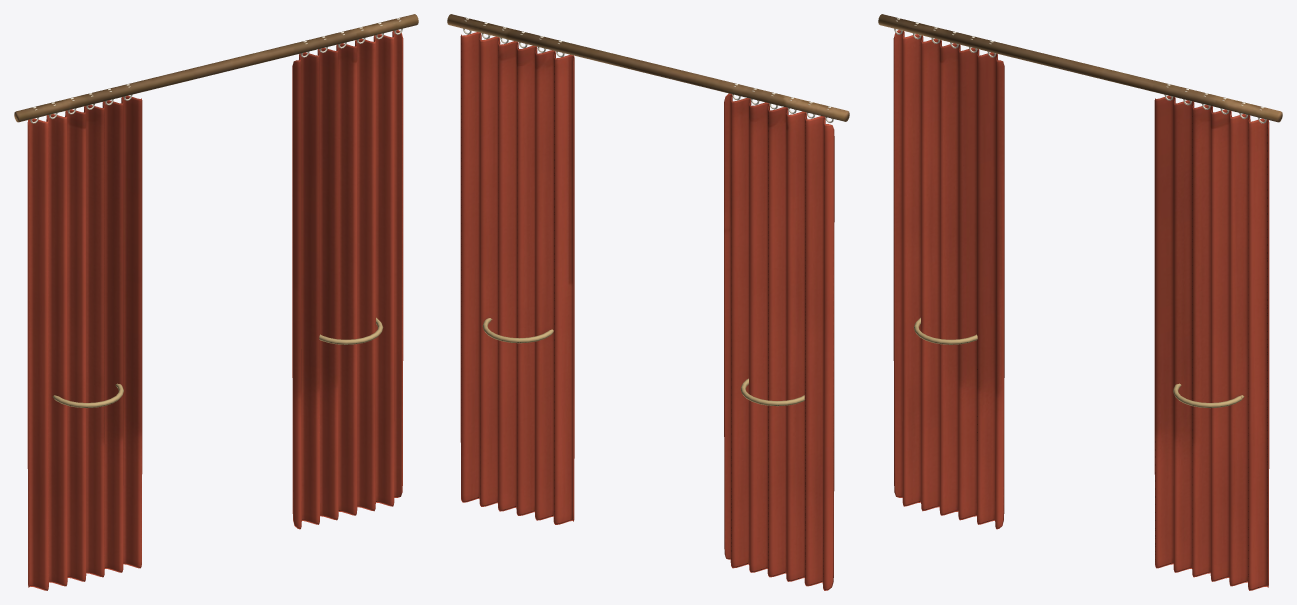
The model's file is curtain_red.glb.
3 views of the same model, side by side, from view 1: azimuth 30°, elevation 25°; view 2: azimuth 150°, elevation 25°; view 3: azimuth 330°, elevation 25° (orthographic).
Visible parts, largest first — view 1: curtain_red_panel0, curtain_red_panel2, curtain_red_wood, curtain_red_hemp; view 2: curtain_red_panel2, curtain_red_panel0, curtain_red_wood, curtain_red_hemp; view 3: curtain_red_panel2, curtain_red_panel0, curtain_red_wood, curtain_red_hemp.
Boxes of the visible parts, bbox=[...] form: curtain_red_panel0: bbox=[27, 95, 142, 590]; curtain_red_panel2: bbox=[292, 30, 403, 529]; curtain_red_wood: bbox=[14, 14, 418, 122]; curtain_red_hemp: bbox=[52, 317, 383, 408]; curtain_red_panel2: bbox=[460, 32, 574, 524]; curtain_red_panel0: bbox=[724, 93, 834, 590]; curtain_red_wood: bbox=[447, 14, 849, 121]; curtain_red_hemp: bbox=[482, 318, 804, 406]; curtain_red_panel2: bbox=[1154, 95, 1269, 590]; curtain_red_panel0: bbox=[893, 30, 1004, 529]; curtain_red_wood: bbox=[878, 14, 1282, 122]; curtain_red_hemp: bbox=[913, 317, 1244, 408].
Bounding box in the file's own units: 3.2 × 3.7 × 0.516.
5 materials, 3 textured.
